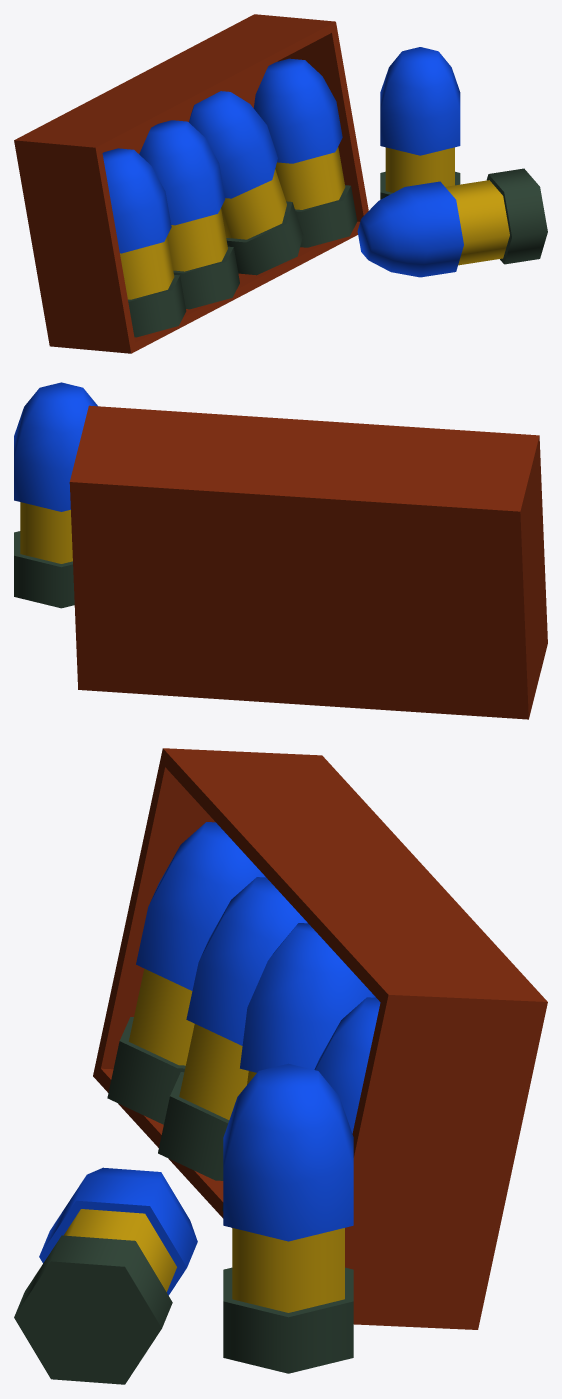
File: bullet.fbx
The picture shows the model from 3 angles, top to bottom: view 1: azimuth 30°, elevation 25°; view 2: azimuth 150°, elevation 25°; view 3: azimuth 270°, elevation 25°; orthographic projection. The views are drawn at different scales.
Visible parts, largest first — view 1: bullet; view 2: bullet; view 3: bullet.
Boxes of the visible parts, box(x1,y1,x2,y2) form: bullet: box(14, 14, 547, 353); bullet: box(14, 382, 547, 719); bullet: box(14, 748, 547, 1384).
Bounding box in the file's own units: 16.32 × 7.37 × 10.2.
